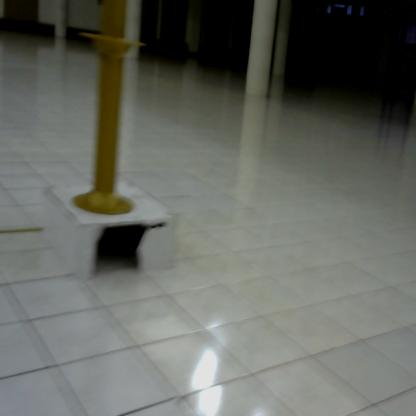pole: (70, 1, 153, 219)
